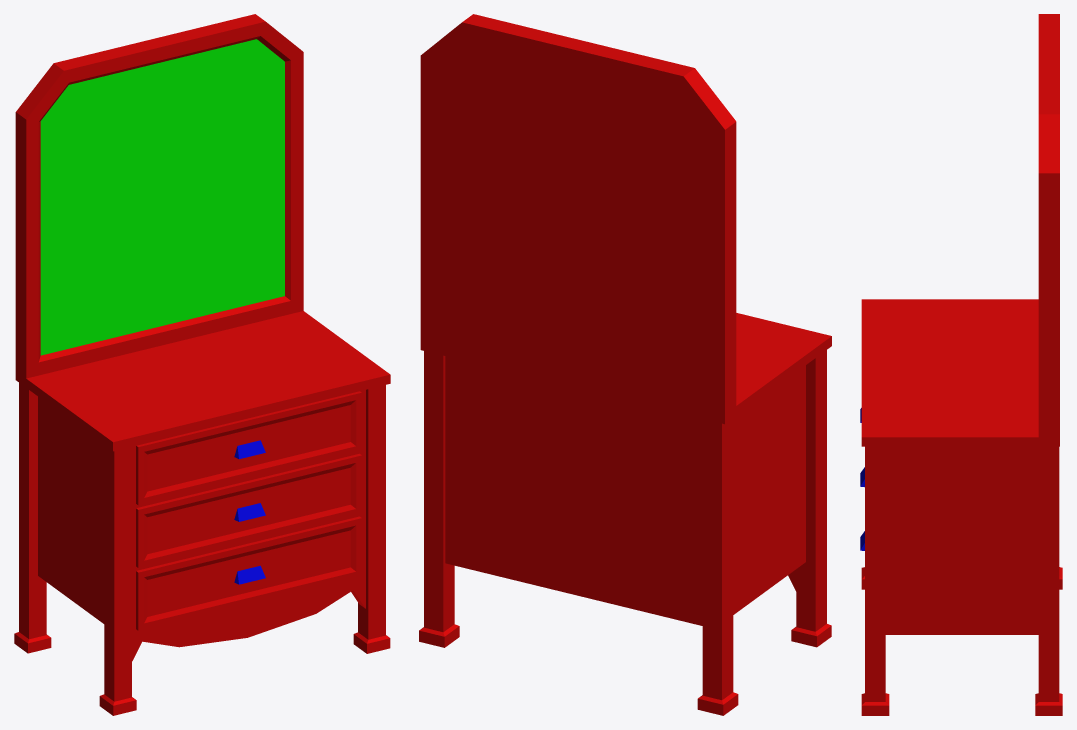
File: Dresser.fbx
The picture shows the model from 3 angles, left to right: view 1: azimuth 30°, elevation 25°; view 2: azimuth 150°, elevation 25°; view 3: azimuth 270°, elevation 25°; orthographic projection. The views are drawn at different scales.
Parts seen in each view (by area): view 1: Dresser_Assembled; view 2: Dresser_Assembled; view 3: Dresser_Assembled.
Part boxes in pixels (x1,y1,x2,y2): Dresser_Assembled: (14, 14, 390, 715); Dresser_Assembled: (419, 14, 831, 715); Dresser_Assembled: (860, 14, 1062, 715).
Size of the model in its own units: 89.87 by 177 by 55.82.
